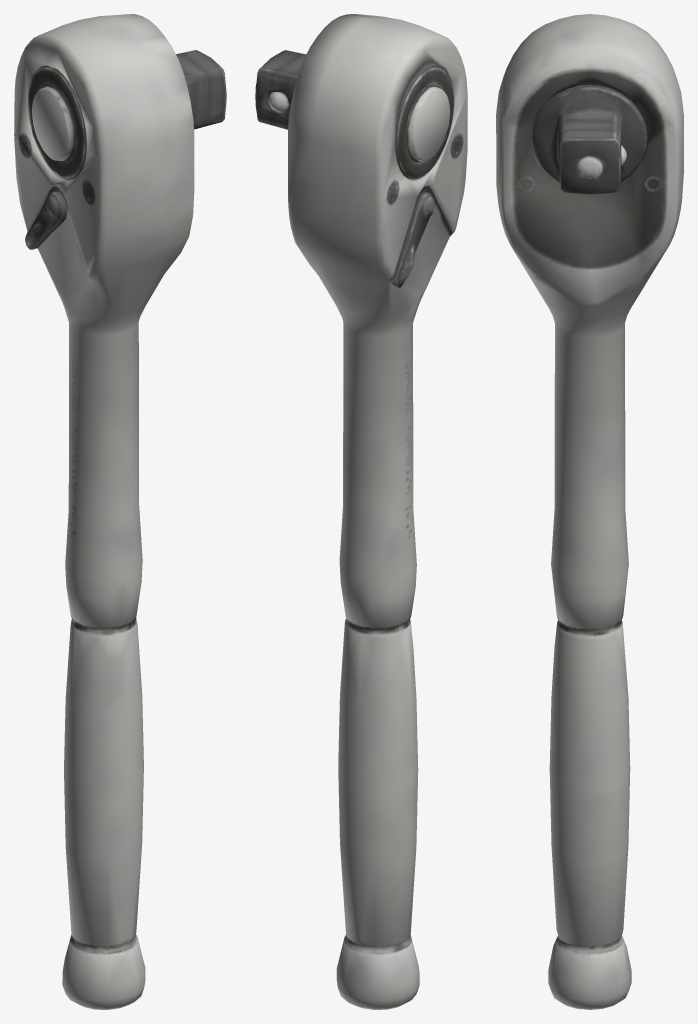
File: ratchet_wrench.glb
3 renders of one model, left to right at view 1: azimuth 30°, elevation 25°; view 2: azimuth 150°, elevation 25°; view 3: azimuth 270°, elevation 25°, orthographic.
Visible parts, largest first — view 1: ratchet_wrench; view 2: ratchet_wrench; view 3: ratchet_wrench.
Boxes of the visible parts, x1,y1,x2,y2 form: ratchet_wrench: [14, 14, 226, 1009]; ratchet_wrench: [255, 14, 467, 1009]; ratchet_wrench: [496, 14, 683, 1009].
Size of the model in its own units: 0.044 by 0.246 by 0.0433.
1 material, 1 textured.
